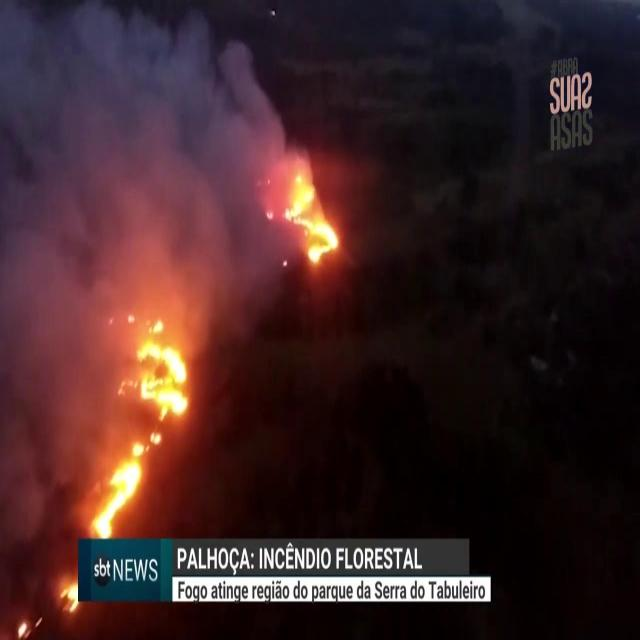Fire: (124, 314, 190, 442), (93, 441, 147, 539), (285, 175, 337, 265), (59, 580, 81, 610)
